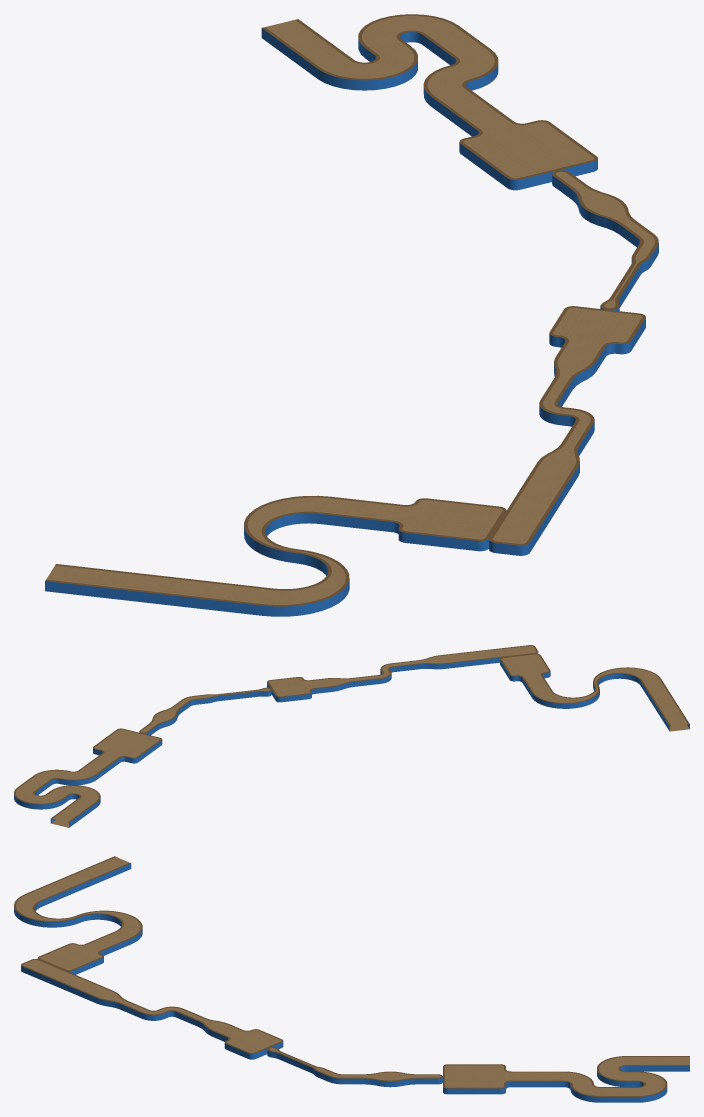
The model's file is ramp_37.FBX.
3 views of the same model, one above another, from view 1: azimuth 30°, elevation 25°; view 2: azimuth 150°, elevation 25°; view 3: azimuth 270°, elevation 25° (orthographic). The views are drawn at different scales.
Visible parts, largest first — view 1: ramp_37; view 2: ramp_37; view 3: ramp_37.
Part boxes in pixels (box(x1,y1,x2,y2)): ramp_37: box(45, 14, 658, 616); ramp_37: box(14, 645, 689, 827); ramp_37: box(14, 856, 689, 1102).
Bounding box in the file's own units: 10842 × 120 × 12863.
